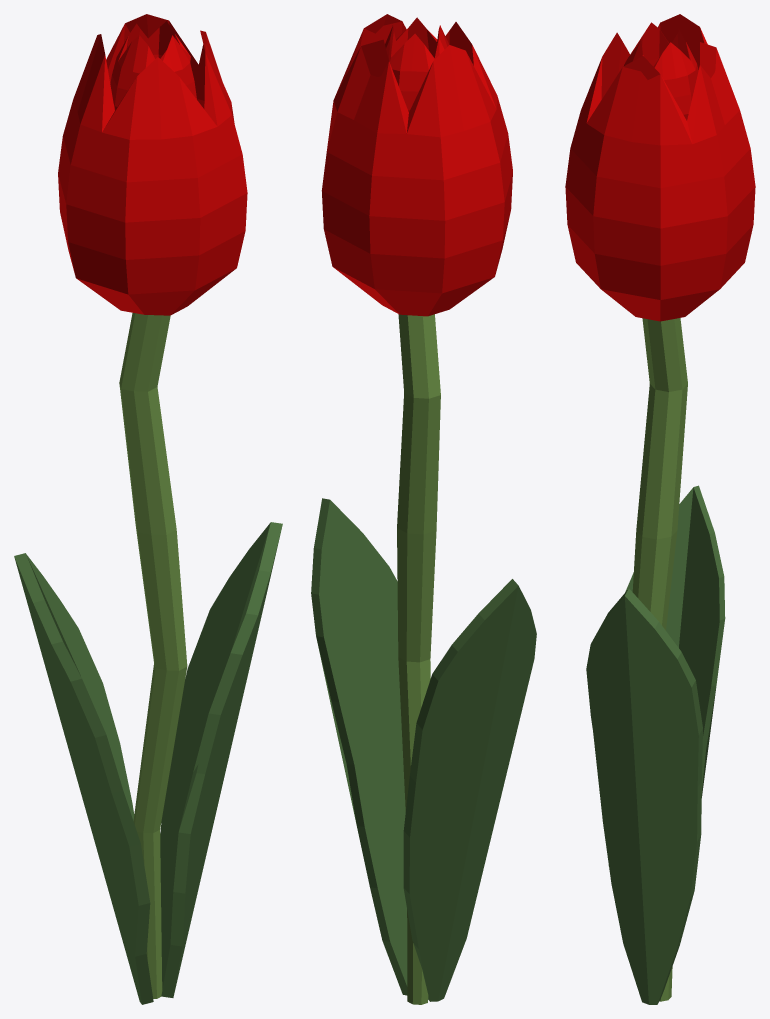
File: Tulp_rood.fbx
3 views of the same model, side by side, from view 1: azimuth 30°, elevation 25°; view 2: azimuth 150°, elevation 25°; view 3: azimuth 270°, elevation 25° (orthographic).
Parts seen in each view (by area): view 1: Tulp_rood; view 2: Tulp_rood; view 3: Tulp_rood.
Boxes of the visible parts, <box> form: Tulp_rood: <box>14,14,282,1004</box>; Tulp_rood: <box>311,14,536,1004</box>; Tulp_rood: <box>565,14,755,1004</box>.
Bounding box in the file's own units: 5.02 × 20.03 × 3.57.
